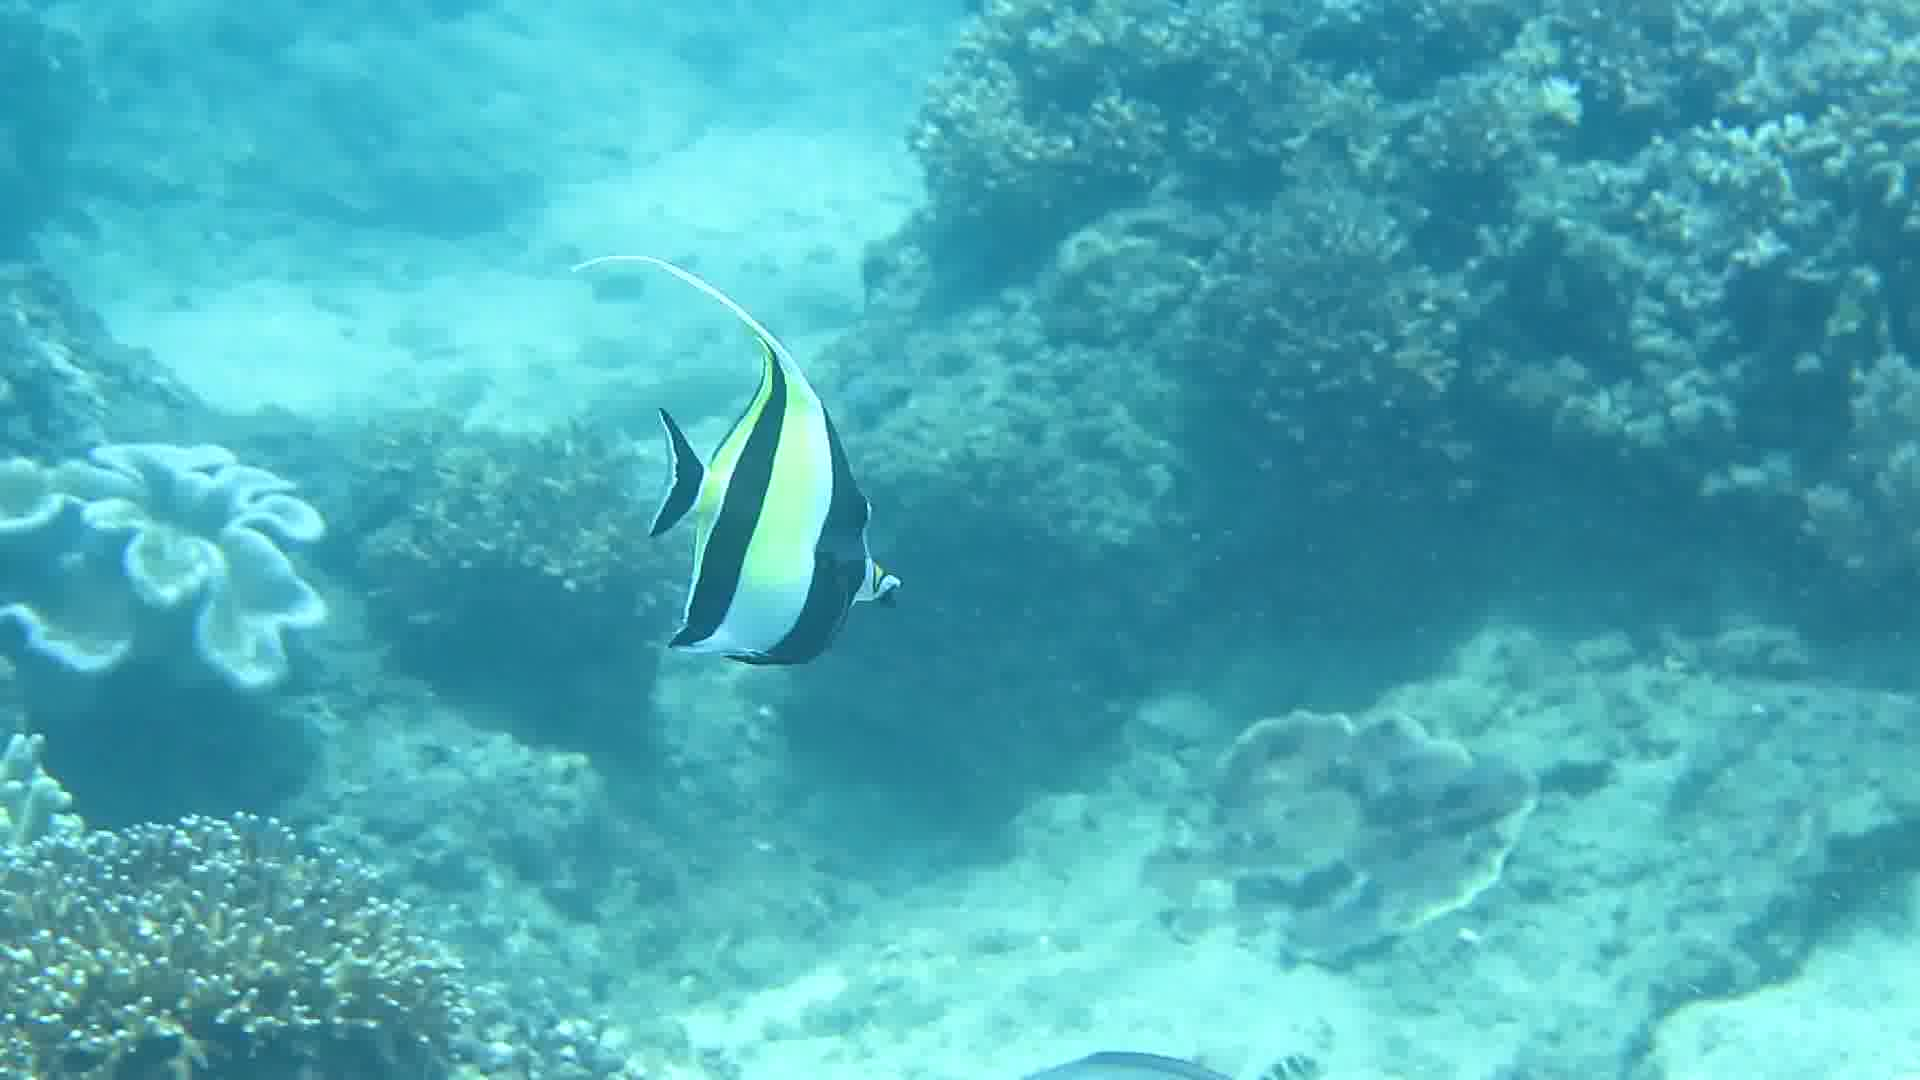Zanclus cornutus: (632, 334, 902, 692)
